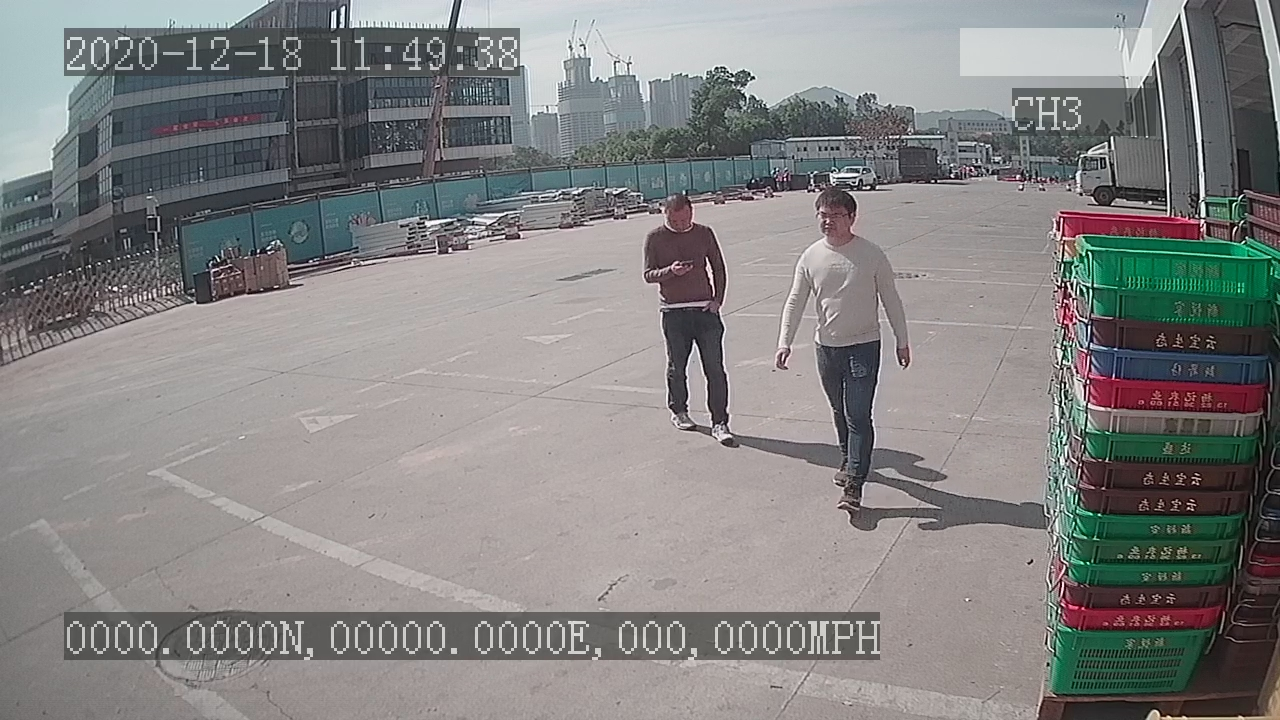person: (770, 186, 915, 520), (638, 190, 740, 449)
